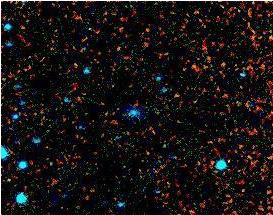star: (213, 144, 243, 174)
